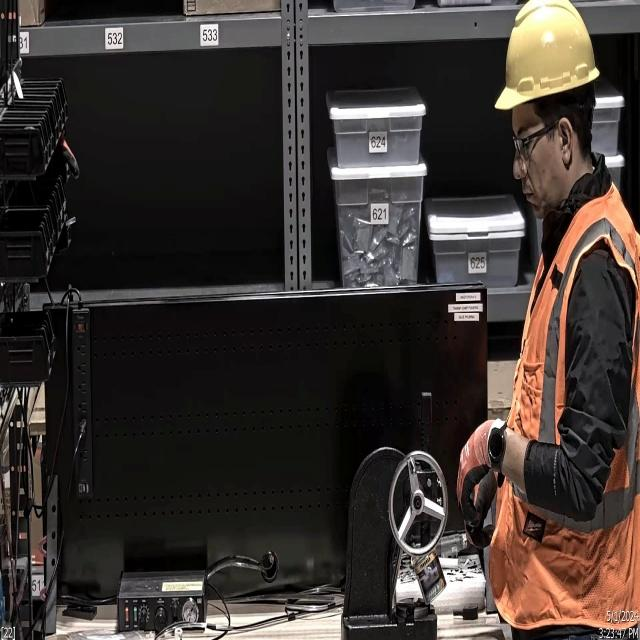construction-gloves: (456, 416, 492, 528)
